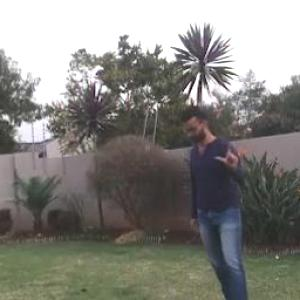land_hand: (213, 136, 245, 168)
